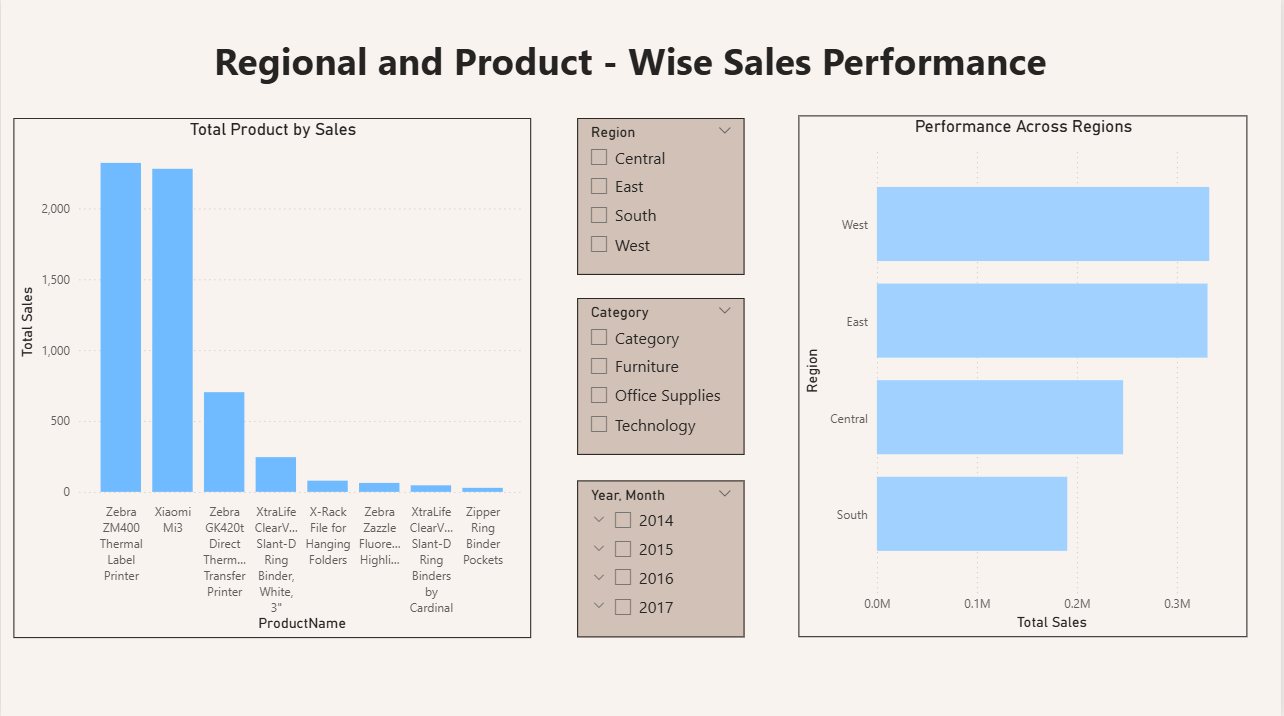

This screenshot's page, from the dashboard's own definition file:
{"tool":"powerbi","page":{"name":"Regional Analysis","canvas":[1280,720],"ordinal":2},"visuals":[{"type":"clusteredBarChart","title":"Performance Across Regions","fields":{"Y":["fact_sales.Total Sales"],"Category":["dim_region.Region"]},"box":[797.3,118,448.7,521.4],"z":0},{"type":"columnChart","title":"Total Product by Sales","fields":{"Y":["fact_sales.Total Sales"],"Category":["dim_product.ProductName"]},"box":[12.3,119.4,517.3,520.1],"z":1},{"type":"slicer","fields":{"Values":["dim_region.Region"]},"box":[576.3,119.4,167.4,156.4],"z":3},{"type":"slicer","fields":{"Values":["dim_product.Category"]},"box":[576.3,300.5,167.4,156.4],"z":4},{"type":"slicer","fields":{"Values":["dim_date.Year","dim_date.Month"]},"box":[576.3,483,167.4,156.4],"z":5},{"type":"textbox","box":[12.3,32.9,1233.6,75.5],"z":6}]}

Visuals, with their boxes in screenshot pixels (x1, y1, x2, y2), scaled from the page's 1280x720 canvas onto the 1284x716 screenshot:
"Performance Across Regions" clusteredBarChart: 800:117:1250:636
"Total Product by Sales" columnChart: 12:119:531:636
slicer - dim_region.Region: 578:119:746:274
slicer - dim_product.Category: 578:299:746:454
slicer - dim_date.Year x dim_date.Month: 578:480:746:636
textbox: 12:33:1250:108
